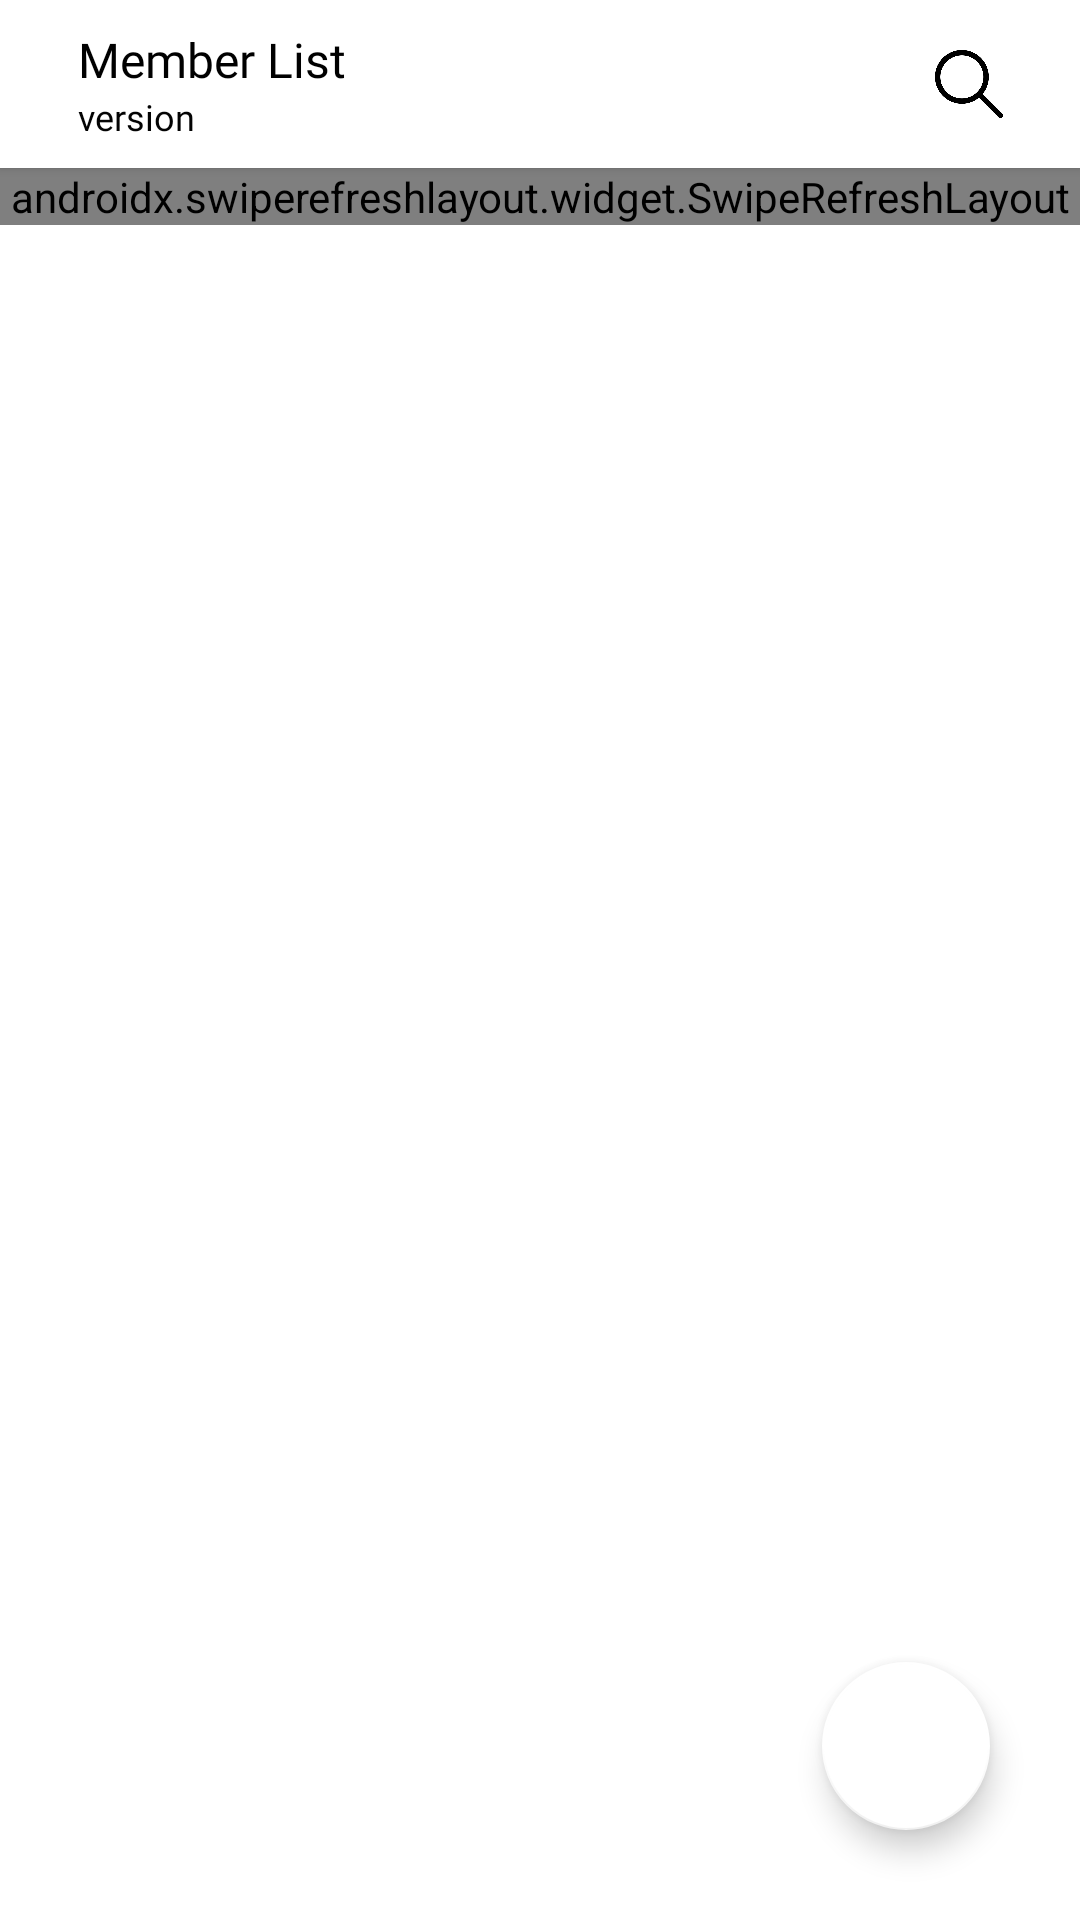

Icon click points for this 1080×1920 phone screenshot, format point (x, y):
search: point (969, 84)
